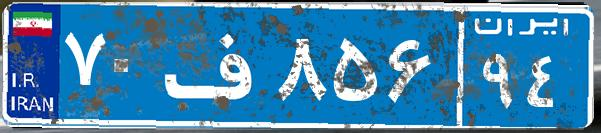0: (110, 28, 158, 105)
4: (525, 38, 570, 115)
5: (330, 28, 385, 110)
6: (385, 28, 445, 110)
7: (57, 26, 110, 107)
8: (273, 28, 330, 110)
9: (475, 38, 525, 113)
ف: (158, 15, 273, 115)
